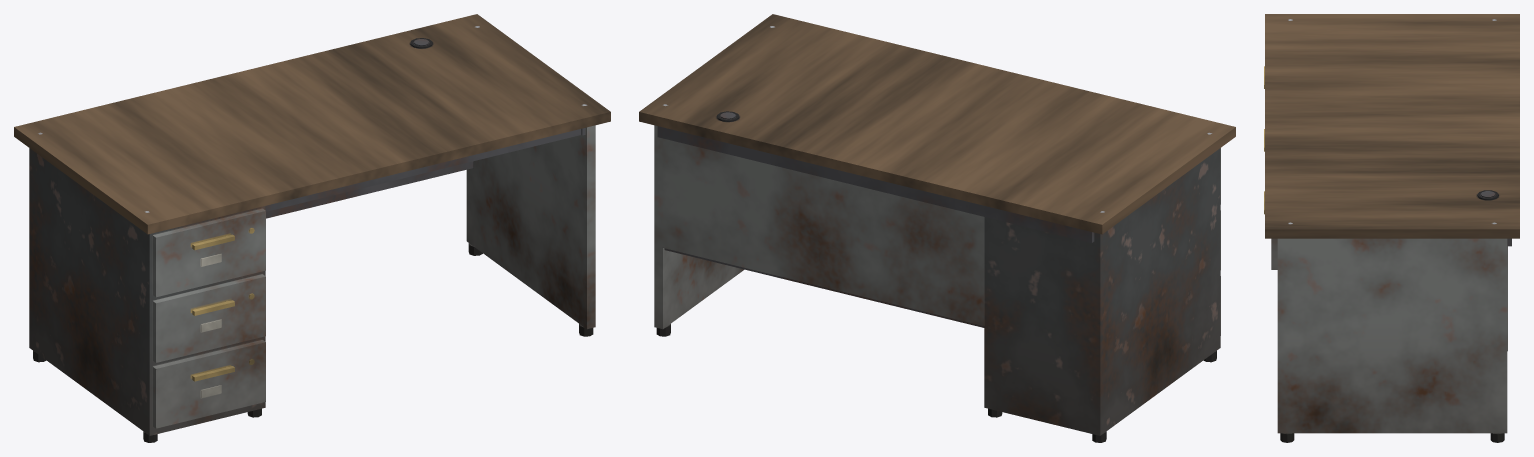
File: OperatorDesk_low.fbx
3 views of the same model, side by side, from view 1: azimuth 30°, elevation 25°; view 2: azimuth 150°, elevation 25°; view 3: azimuth 270°, elevation 25° (orthographic). The views are drawn at different scales.
Visible parts, largest first — view 1: OperatorDesk_low; view 2: OperatorDesk_low; view 3: OperatorDesk_low.
Boxes of the visible parts, x1=… form: OperatorDesk_low: x1=14, y1=14, x2=610, y2=442; OperatorDesk_low: x1=639, y1=14, x2=1235, y2=442; OperatorDesk_low: x1=1264, y1=14, x2=1519, y2=442.
Bounding box in the file's own units: 1.6 × 0.756 × 0.803.
Materials: 1 (1 with a texture image).
